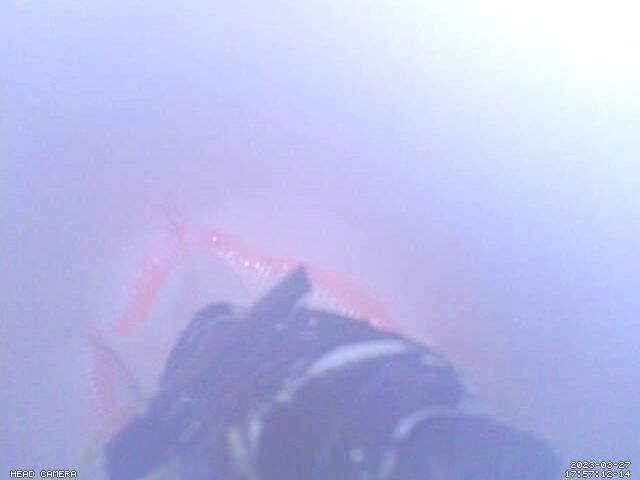head: (86, 219, 405, 436)
